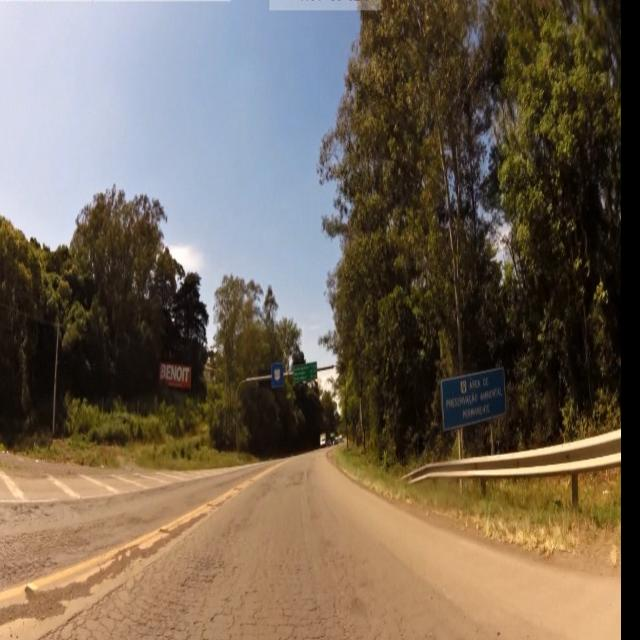LOC-6: (439, 379, 508, 421)
